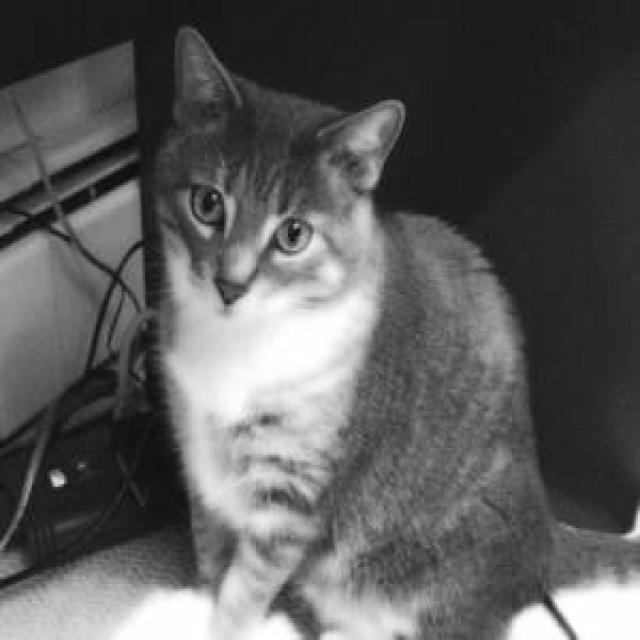Egyptian_Mau: (139, 8, 411, 338)
